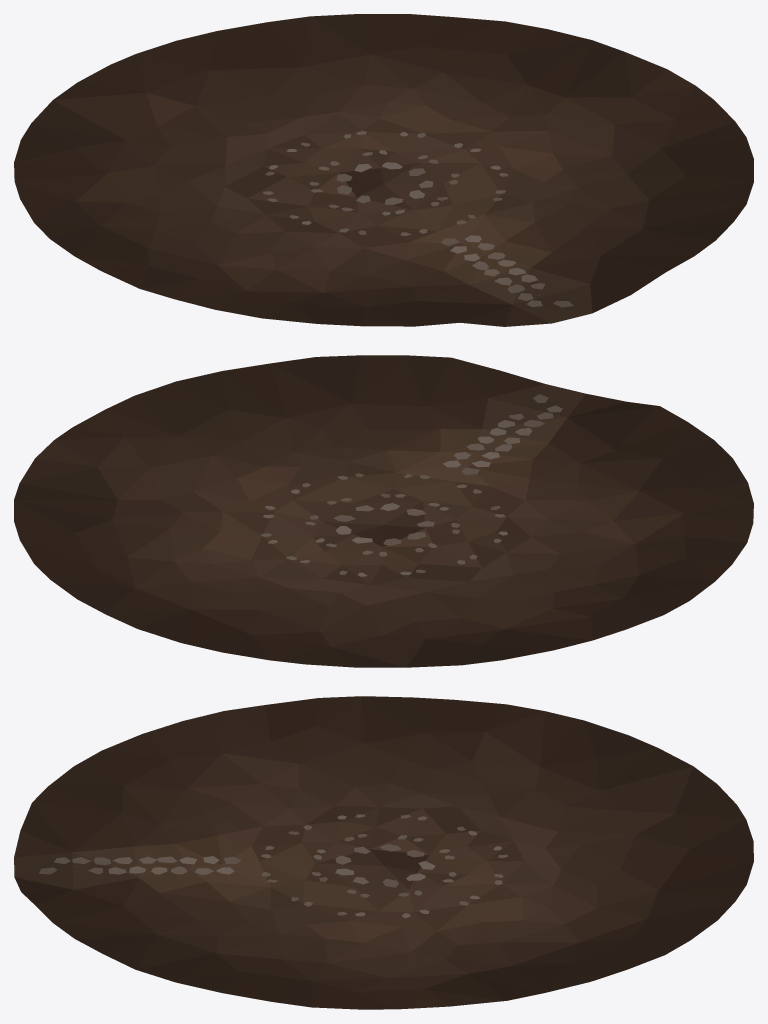
File: tl_env_shrine_floor_v01.glb
3 views of the same model, one above another, from view 1: azimuth 30°, elevation 25°; view 2: azimuth 150°, elevation 25°; view 3: azimuth 270°, elevation 25° (orthographic).
Parts seen in each view (by area): view 1: tl_env_shrine_floor_v01; view 2: tl_env_shrine_floor_v01; view 3: tl_env_shrine_floor_v01.
Boxes of the visible parts, box(x1,y1,x2,y2) form: tl_env_shrine_floor_v01: box(14, 14, 753, 326); tl_env_shrine_floor_v01: box(14, 355, 753, 667); tl_env_shrine_floor_v01: box(14, 696, 753, 1009).
Bounding box in the file's own units: 31.15 × 0.6678 × 31.15.
